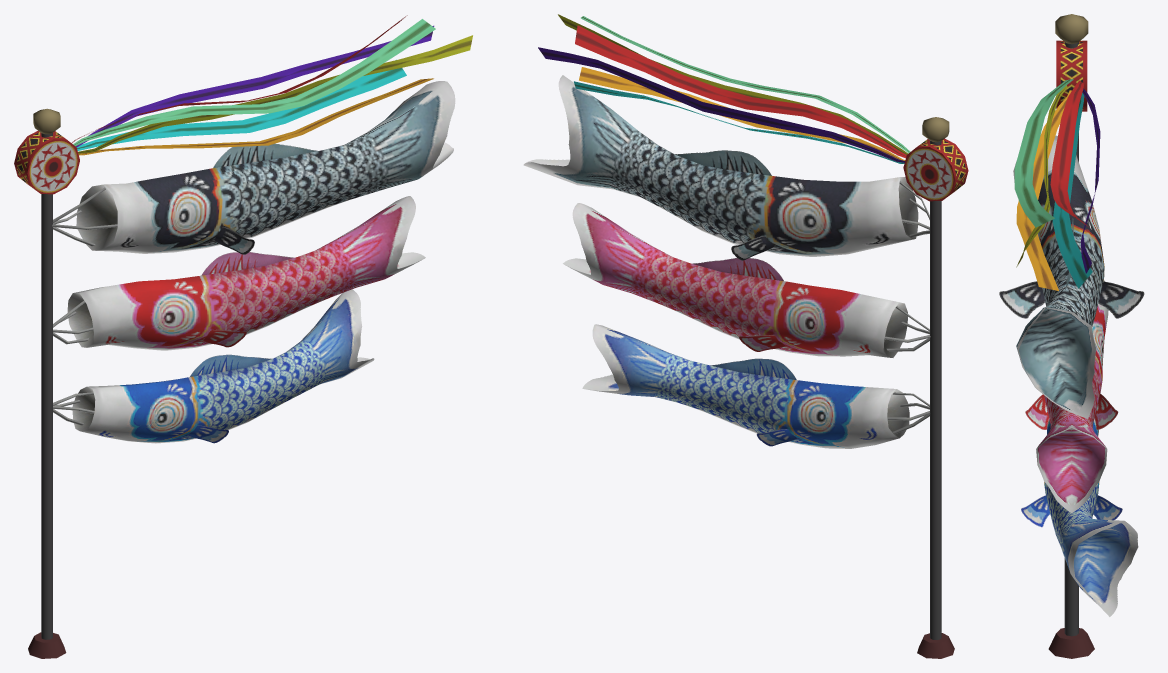
Rendered from Koinobori01.fbx.
3 renders of one model, left to right at view 1: azimuth 30°, elevation 25°; view 2: azimuth 150°, elevation 25°; view 3: azimuth 270°, elevation 25°, orthographic. The views are drawn at different scales.
Parts seen in each view (by area): view 1: Koinobori01; view 2: Koinobori01; view 3: Koinobori01.
Part boxes in pixels (<box>): Koinobori01: <box>14,15,472,658</box>; Koinobori01: <box>523,14,968,658</box>; Koinobori01: <box>999,14,1144,658</box>.
Size of the model in its own units: 204 by 237 by 52.62.
